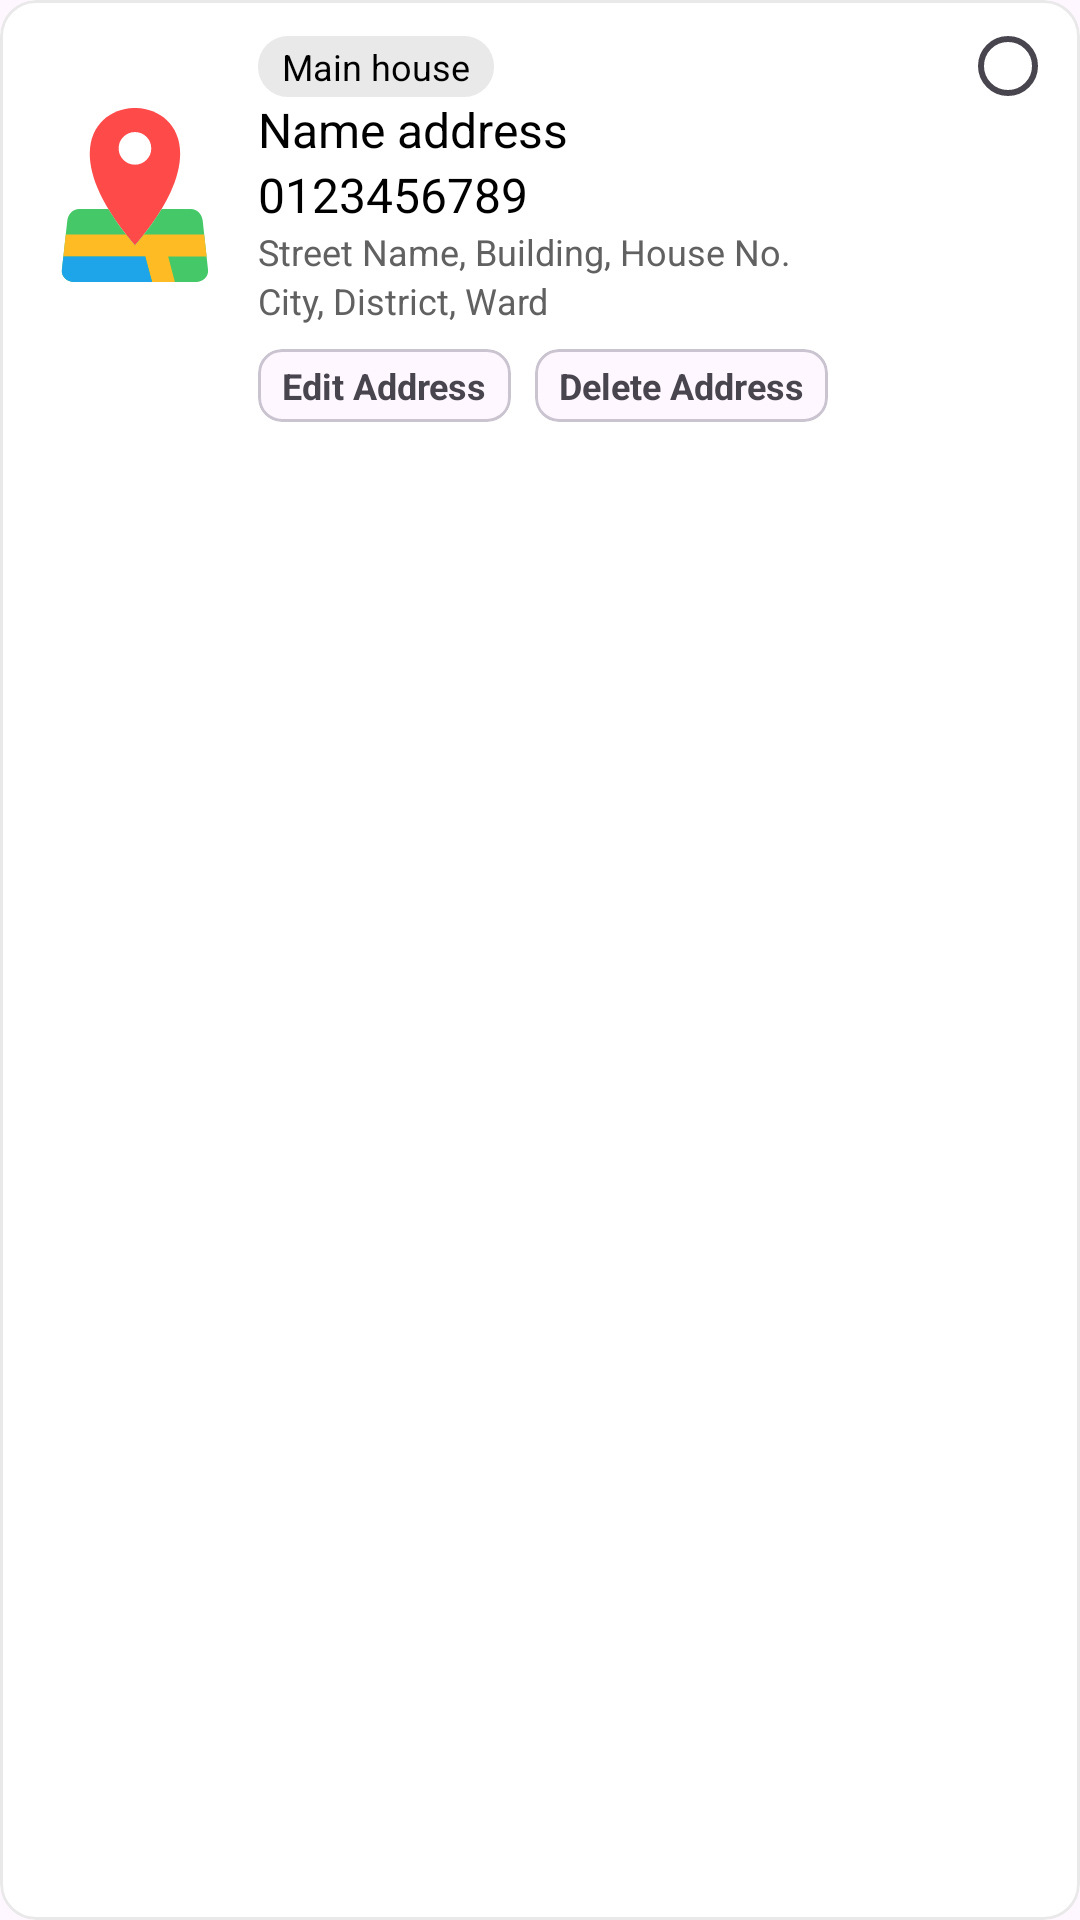

Where to tap for icons on this 1080x1920 app screen, as (x,y):
location: (134,195)
